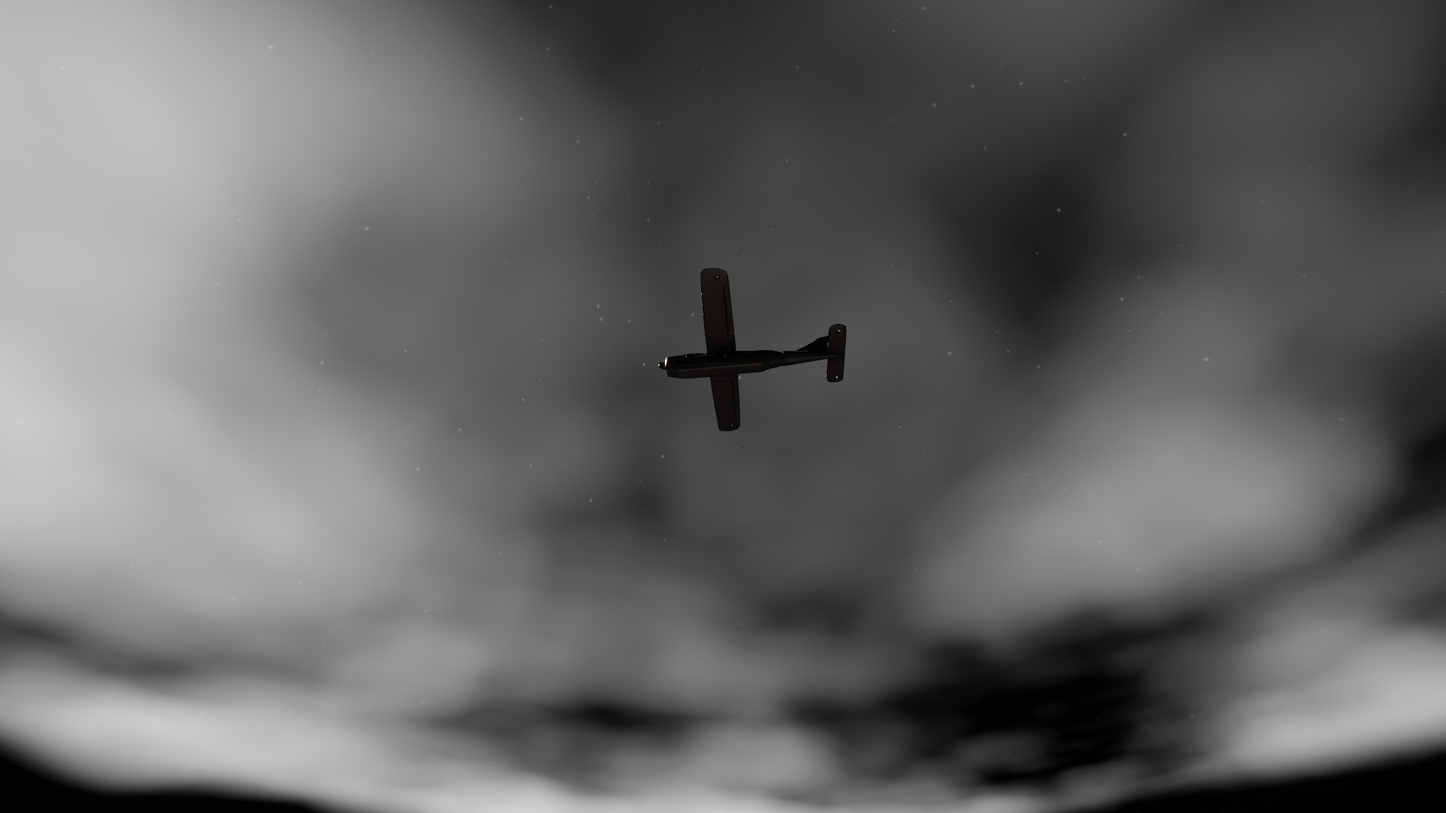drone_other: (659, 268, 847, 432)
